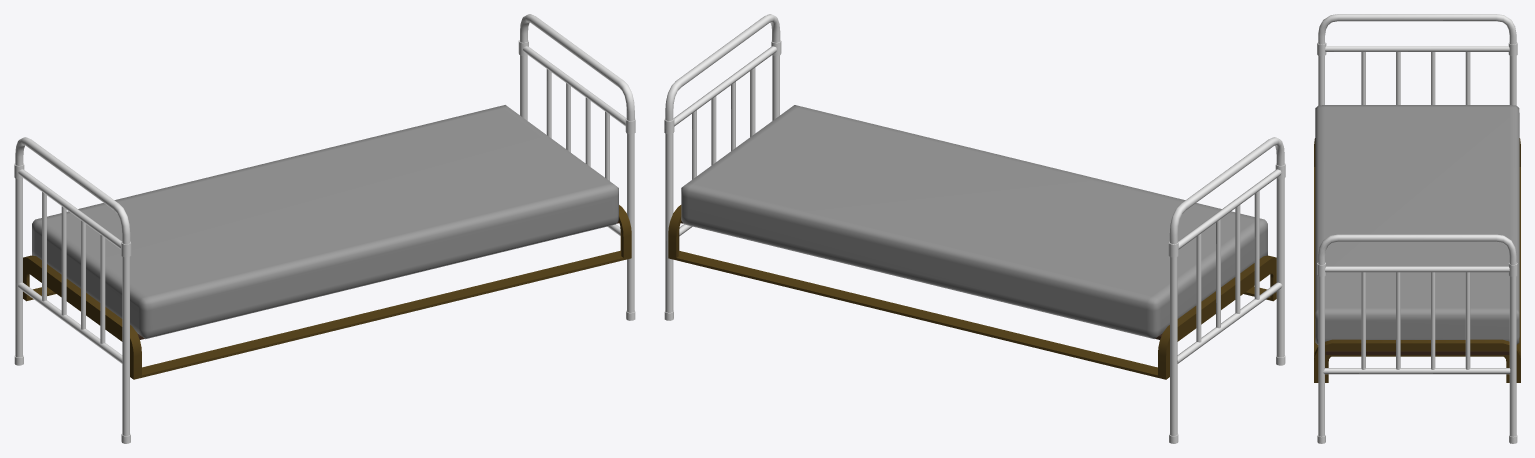
The model's file is Cot.fbx.
3 views of the same model, side by side, from view 1: azimuth 30°, elevation 25°; view 2: azimuth 150°, elevation 25°; view 3: azimuth 270°, elevation 25° (orthographic). The views are drawn at different scales.
Visible parts, largest first — view 1: Krovat; view 2: Krovat; view 3: Krovat.
Part boxes in pixels (bbox=[...]): Krovat: bbox=[14, 14, 635, 443]; Krovat: bbox=[664, 14, 1285, 443]; Krovat: bbox=[1314, 14, 1520, 443].
Bounding box in the file's own units: 766 × 330 × 298.
